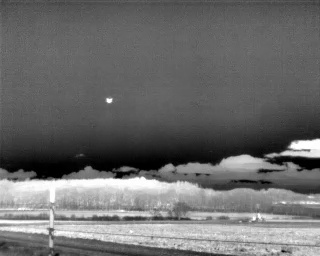DRONE: (103, 93, 117, 107)
